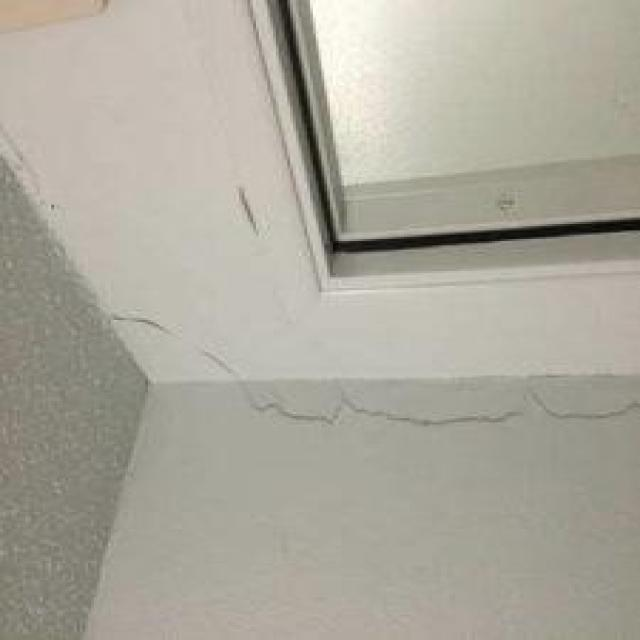damage: (79, 298, 640, 458)
